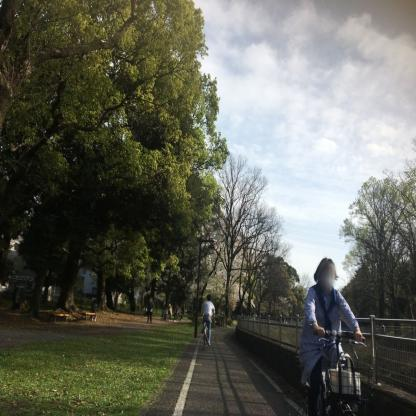Someiyoshino: (185, 193, 259, 318)
